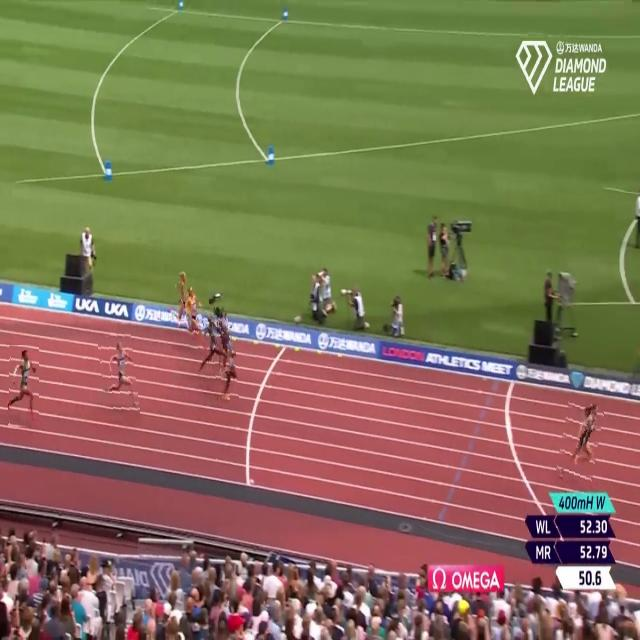athlete: (558, 397, 601, 488), (100, 334, 138, 424), (9, 346, 39, 428), (185, 282, 209, 357), (212, 297, 232, 372), (219, 329, 238, 405), (204, 309, 222, 385), (171, 270, 189, 332)
